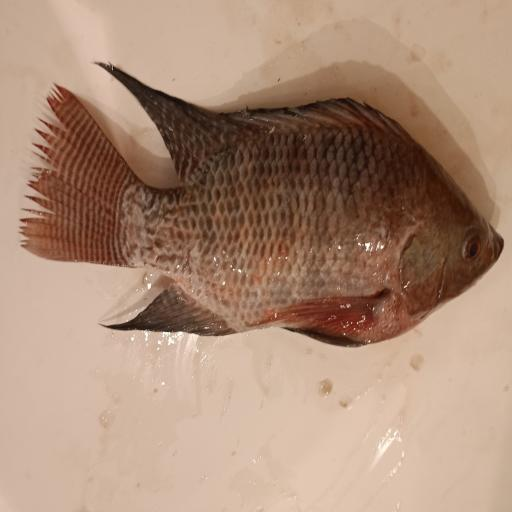Tilapia: (18, 60, 506, 350)
